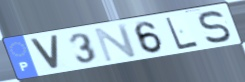3: (67, 31, 98, 65)
6: (133, 20, 165, 55)
L: (164, 15, 201, 51)
N: (93, 22, 140, 64)
S: (198, 10, 233, 45)
V: (27, 34, 61, 71)
